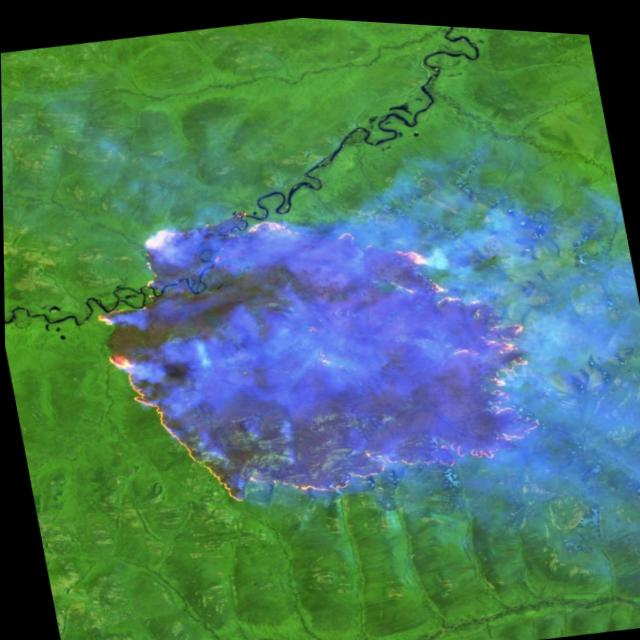fire: (73, 148, 560, 541)
